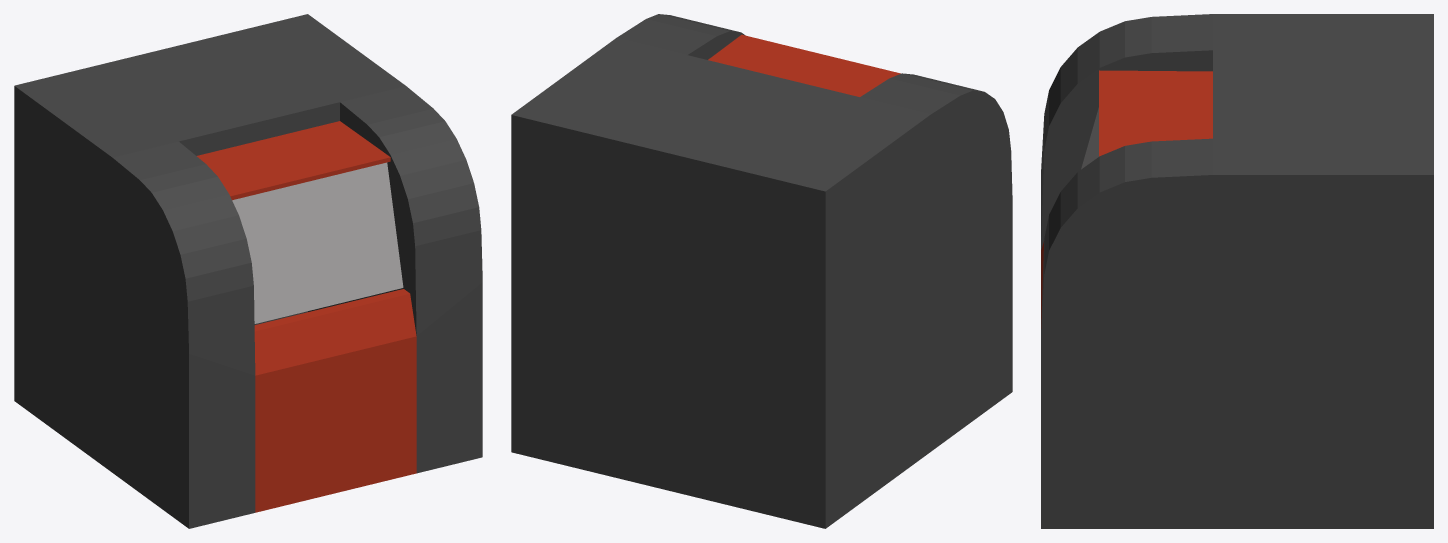
The model's file is Trashbin big 4.fbx.
The picture shows the model from 3 angles, left to right: view 1: azimuth 30°, elevation 25°; view 2: azimuth 150°, elevation 25°; view 3: azimuth 270°, elevation 25°; orthographic projection. The views are drawn at different scales.
Parts seen in each view (by area): view 1: Cube.013, Cube.015, Cube.016, Cube.014; view 2: Cube.013, Cube.014; view 3: Cube.013, Cube.014, Cube.016.
Part boxes in pixels (x1=…): Cube.013: x1=14, y1=14, x2=482, y2=528; Cube.015: x1=254, y1=289, x2=416, y2=512; Cube.016: x1=232, y1=162, x2=403, y2=323; Cube.014: x1=197, y1=121, x2=390, y2=200; Cube.013: x1=511, y1=14, x2=1012, y2=528; Cube.014: x1=708, y1=34, x2=900, y2=96; Cube.013: x1=1041, y1=14, x2=1433, y2=528; Cube.014: x1=1099, y1=70, x2=1212, y2=156; Cube.016: x1=1081, y1=107, x2=1098, y2=169.
Size of the model in its own units: 92.79 by 95.19 by 95.73.
